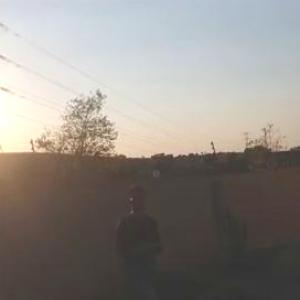follow: (111, 177, 172, 299)
